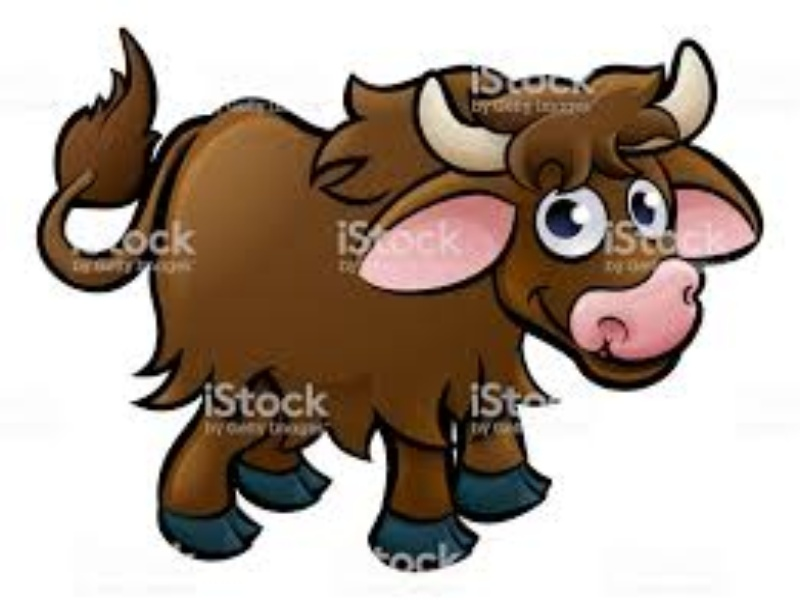buffalo: (48, 19, 768, 582)
